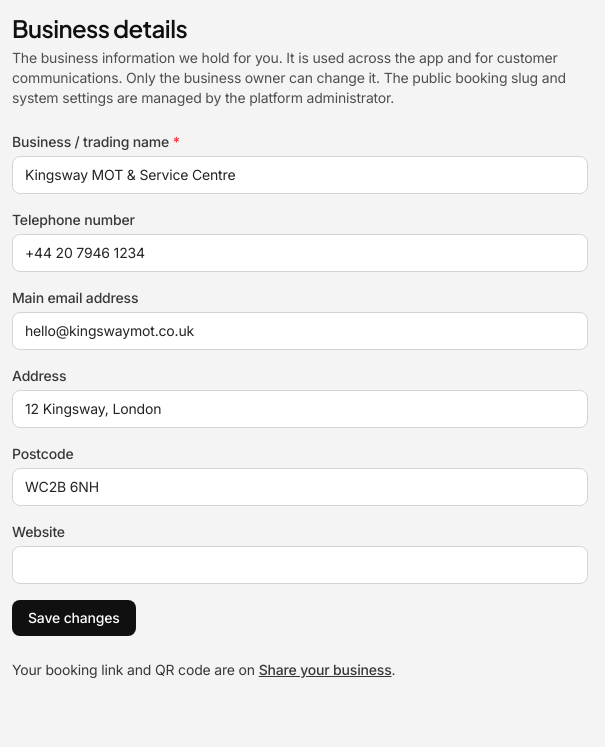
it: GarageDetails › surfaces a 403 as an owner-only message
The image size is (605, 747).
Replace the text in the field labelled "Business / trading name *" with "New Name Ltd": (300, 175) [12,156,588,194]
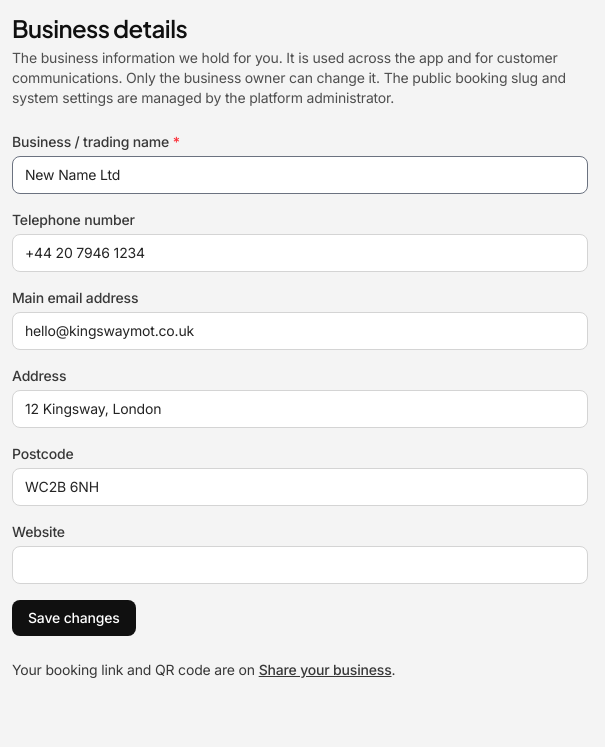
Click the button "Save changes": (74, 618) [12,600,136,636]
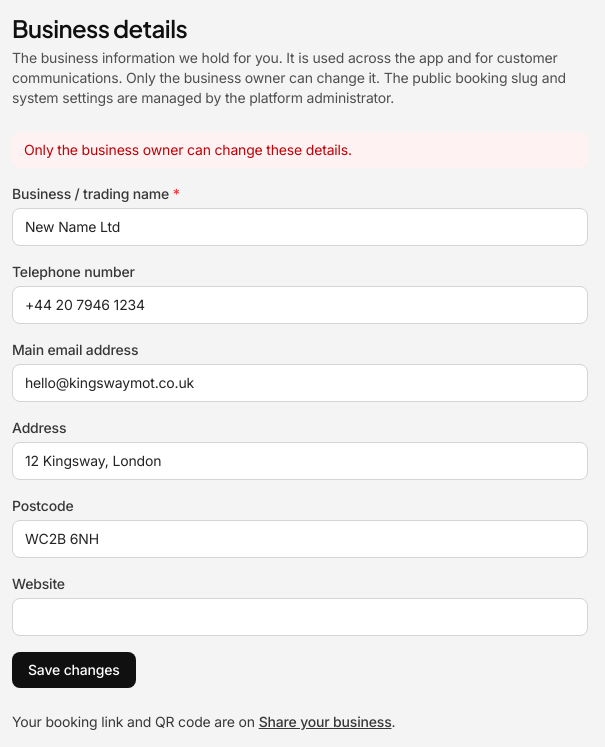
Check: the text "Only the business owner can change these details." is shown, box [12,132,588,168]
